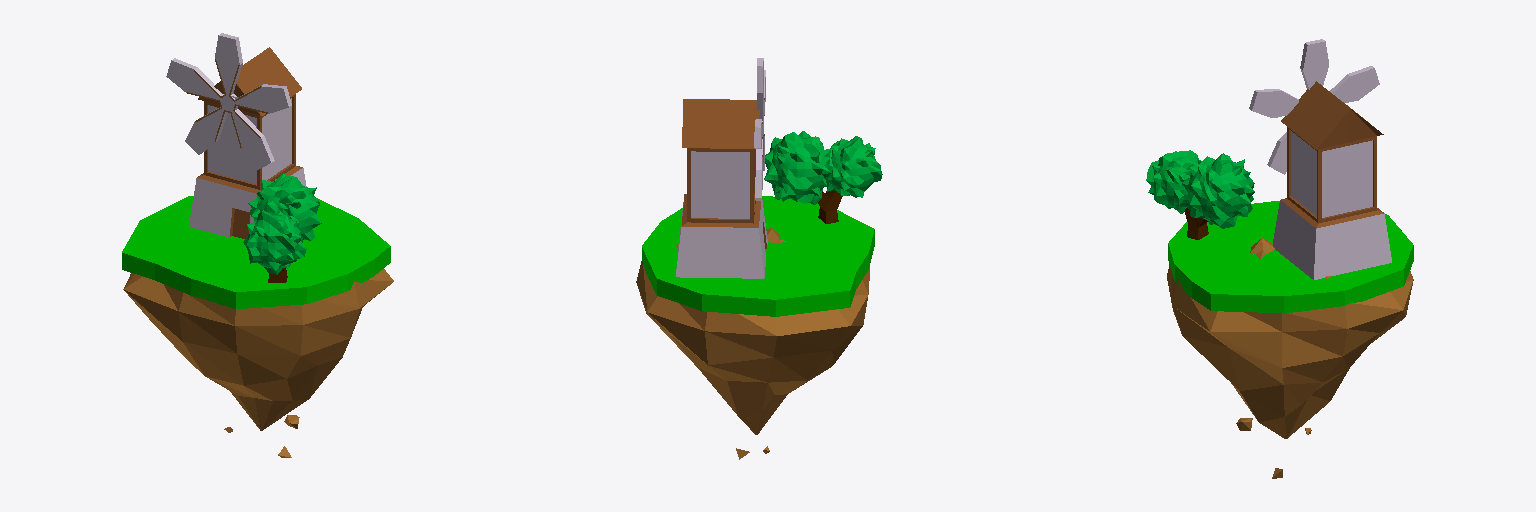
File: mill.obj
3 views of the same model, side by side, from view 1: azimuth 30°, elevation 25°; view 2: azimuth 150°, elevation 25°; view 3: azimuth 270°, elevation 25° (orthographic).
Visible parts, largest first — view 1: Island, Green_platform, Mill, propeller, Tree; view 2: Island, Green_platform, Mill, Tree, propeller; view 3: Island, Mill, Green_platform, Tree, propeller.
Boxes of the visible parts, x1=… form: Island: x1=123, y1=269, x2=393, y2=457; Green_platform: x1=122, y1=196, x2=390, y2=308; Mill: x1=189, y1=47, x2=306, y2=238; propeller: x1=166, y1=33, x2=291, y2=169; Tree: x1=243, y1=173, x2=321, y2=282; Island: x1=636, y1=228, x2=869, y2=459; Green_platform: x1=642, y1=196, x2=874, y2=316; Mill: x1=676, y1=99, x2=767, y2=278; Tree: x1=764, y1=131, x2=882, y2=223; propeller: x1=754, y1=58, x2=765, y2=200; Island: x1=1167, y1=238, x2=1413, y2=478; Mill: x1=1273, y1=81, x2=1391, y2=279; Green_platform: x1=1168, y1=201, x2=1413, y2=312; Tree: x1=1146, y1=150, x2=1254, y2=239; propeller: x1=1249, y1=39, x2=1379, y2=174.
Size of the model in its own units: 10.54 by 19.46 by 11.27.